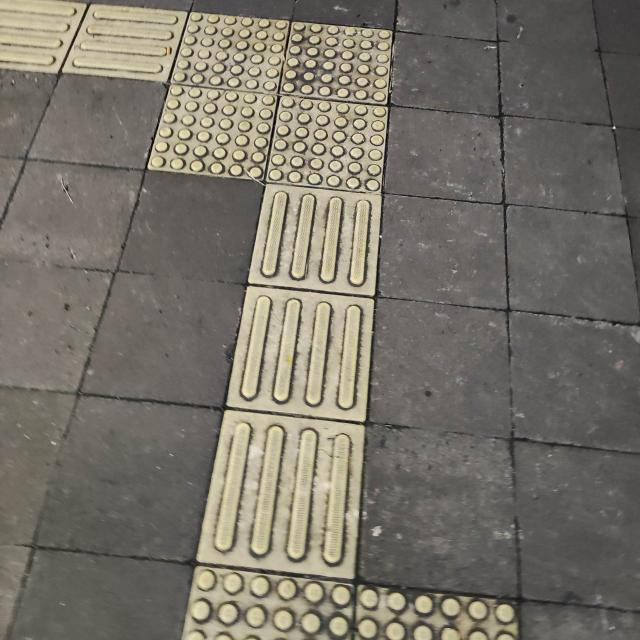kiri: (0, 0, 437, 263)
